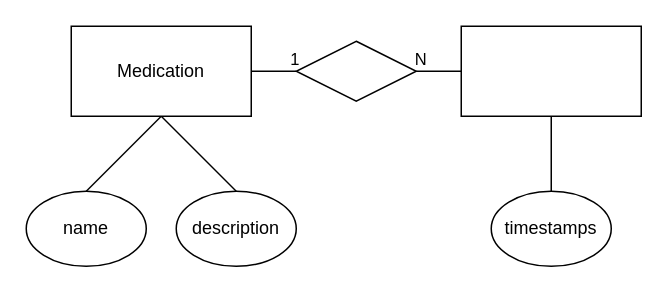
This 668x293 diagram has some shape labels left out. Each missing label, with the box of its shape:
AlertTimestamp: (460, 25, 641, 116)
has: (295, 40, 416, 101)
